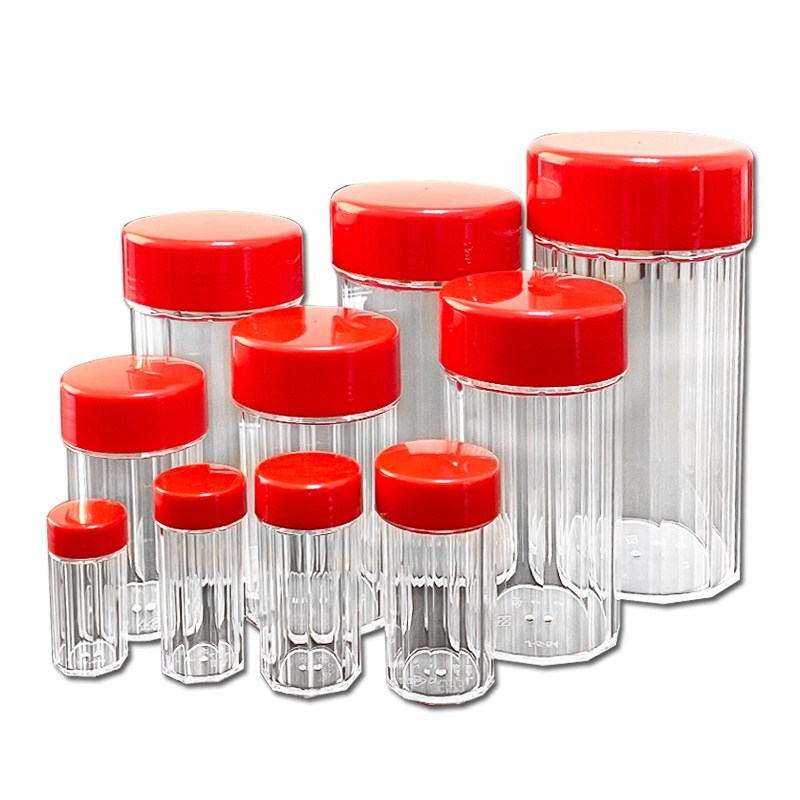medicinejar: (528, 131, 752, 617), (324, 180, 531, 624), (440, 275, 634, 673), (123, 212, 306, 619), (227, 309, 400, 647), (54, 352, 210, 645), (378, 436, 503, 712), (252, 453, 372, 699), (150, 460, 256, 688), (47, 504, 138, 689)
